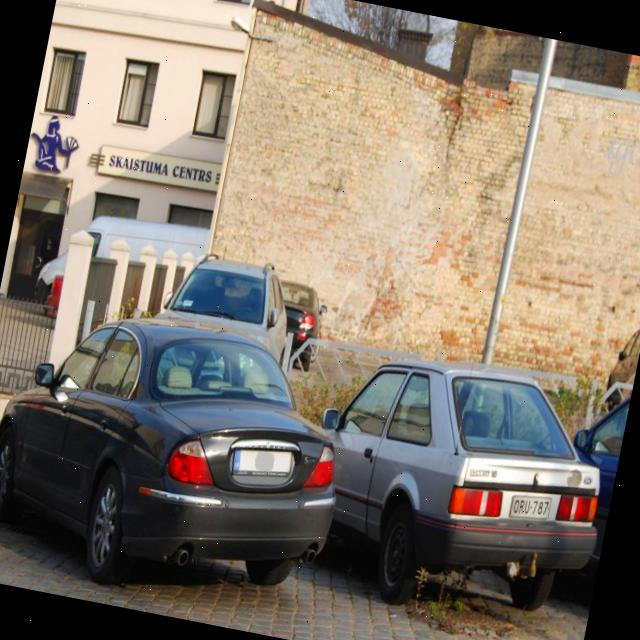License-plate: (230, 440, 298, 490), (508, 488, 555, 530)
